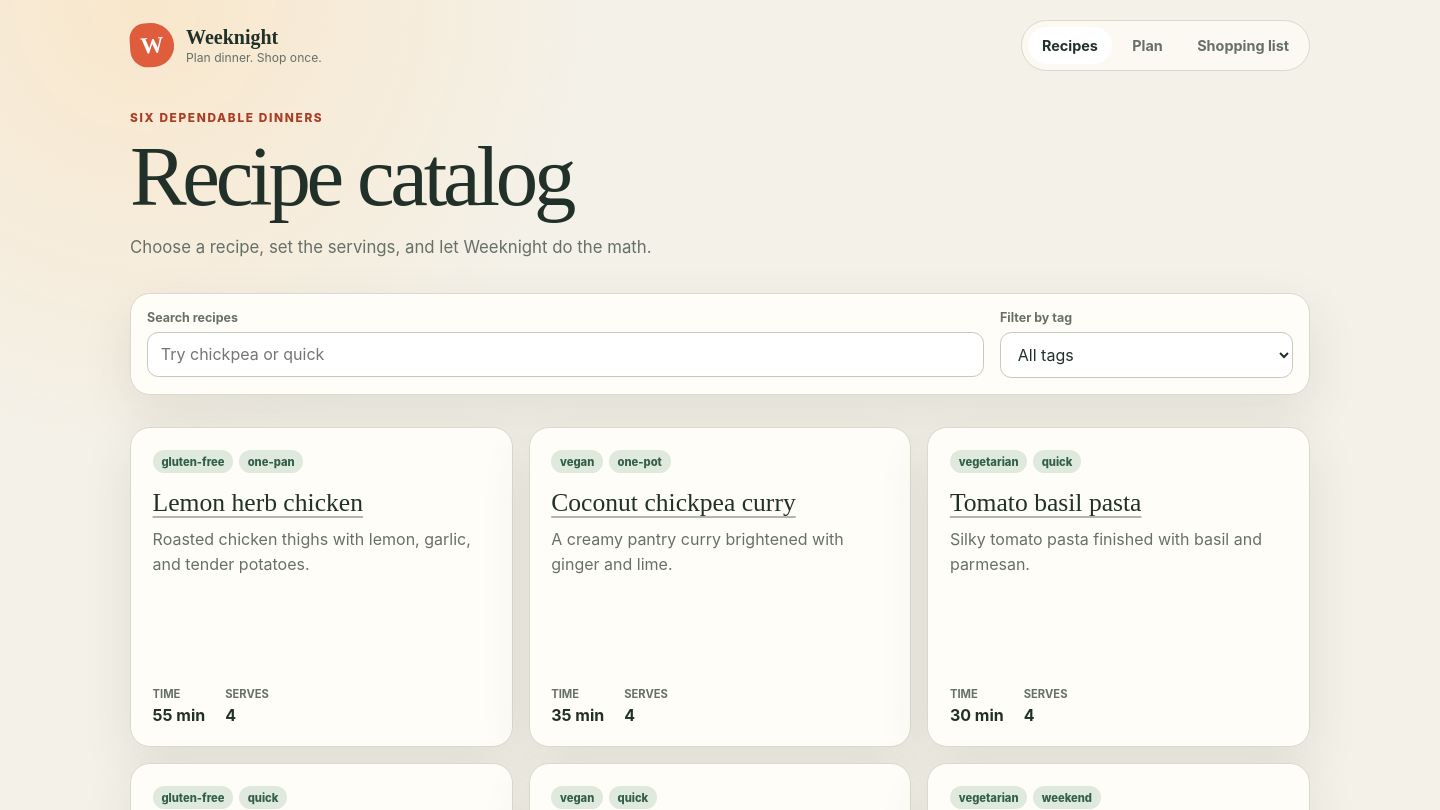
Test: Weeknight › filters the recipe catalog by search text and tag
This screenshot has width=1440, height=810.
Expected: the heading "Recipe catalog" is shown, top-left (130, 129), bottom-right (572, 223)
Expected: the link "Plan" is shown, top-left (1132, 37), bottom-right (1163, 54)
Type "chickpea" into the search field labelled "Search recipes" at (566, 354), box top-left (147, 332), bottom-right (984, 377)
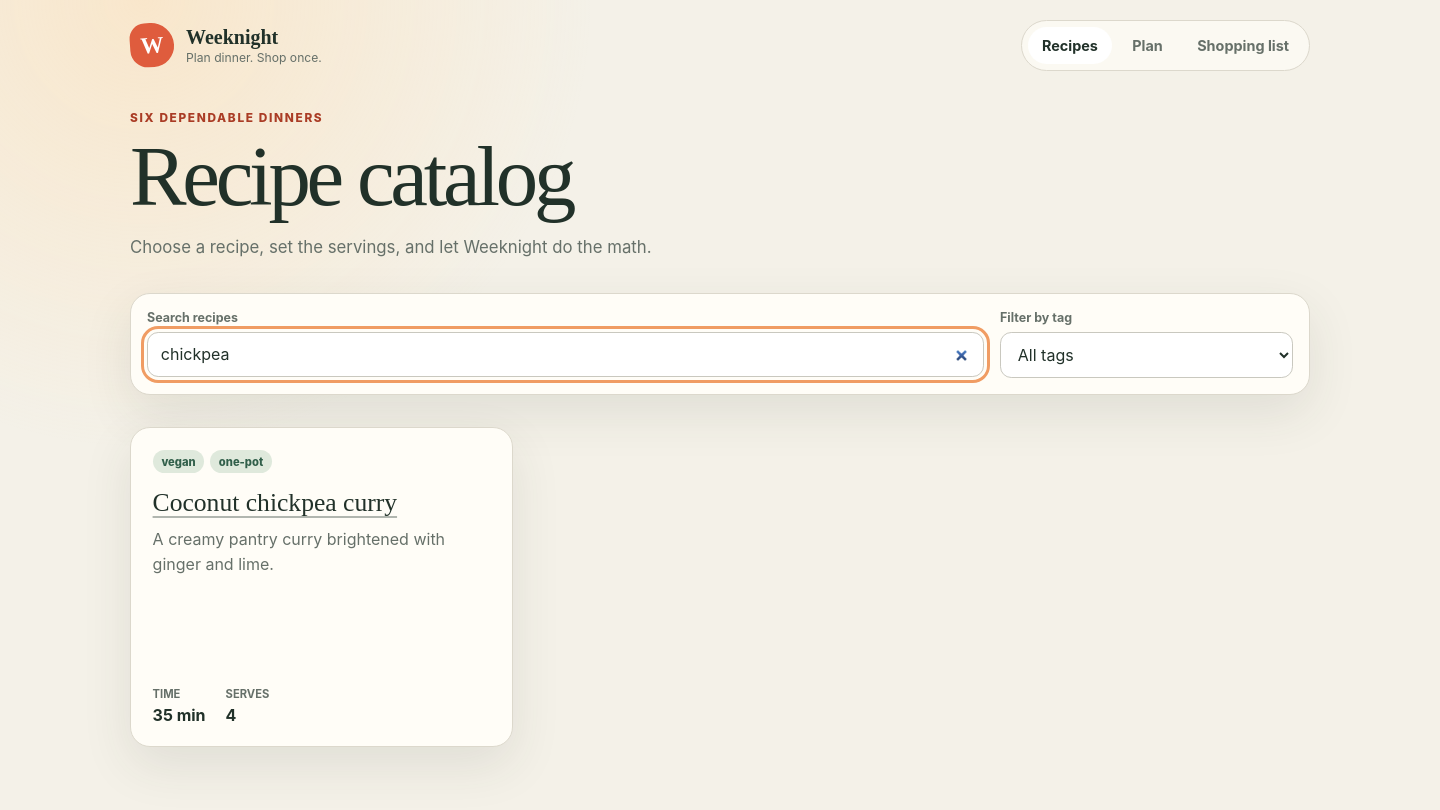
Expected: the link "Coconut chickpea curry" is shown, top-left (153, 488), bottom-right (397, 517)
Now the link "Lemon herb chicken" is gone
Clear the search field labelled "Search recipes" at (566, 354), box top-left (147, 332), bottom-right (984, 377)
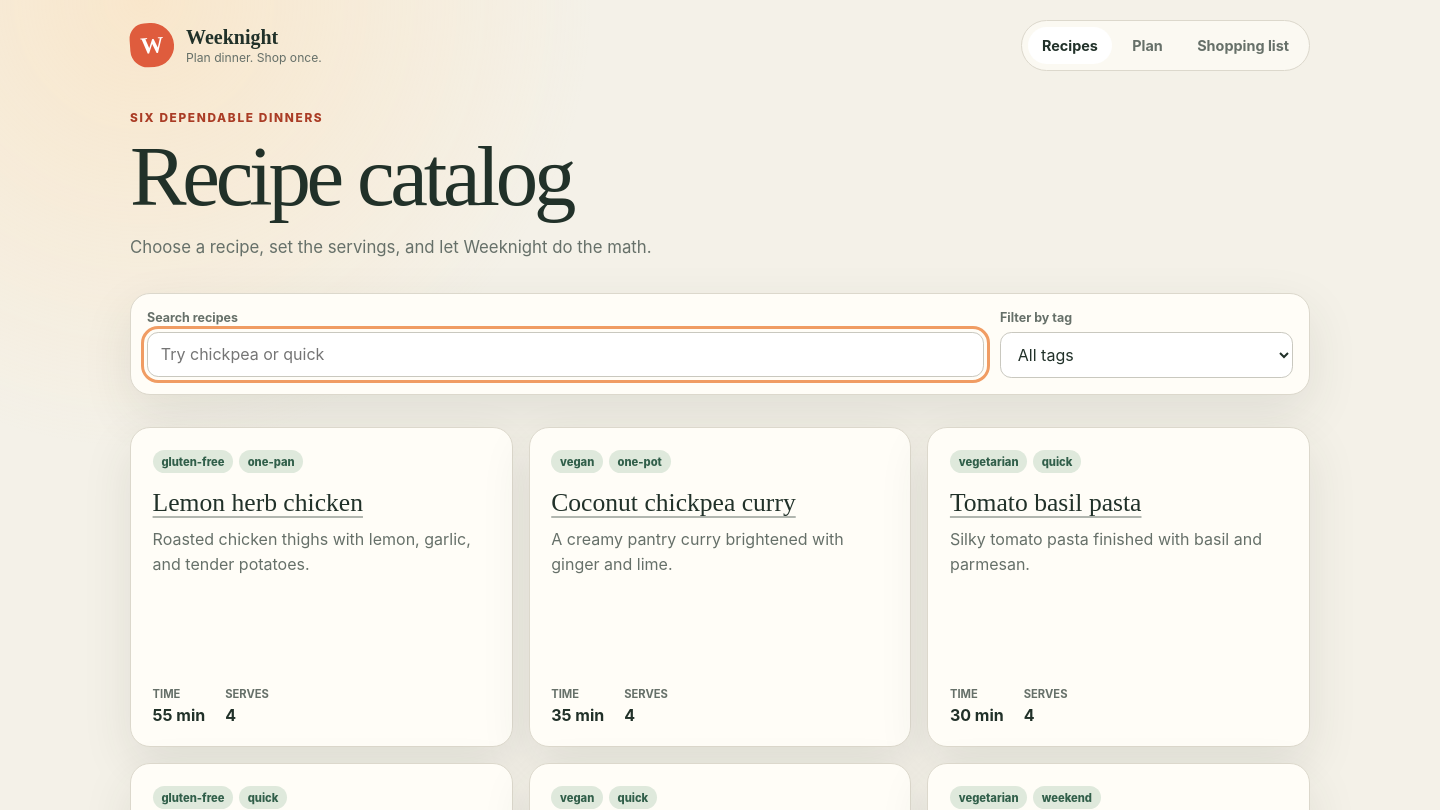
Select "vegan" in the dropdown labelled "Filter by tag" at (1146, 355), box top-left (1000, 332), bottom-right (1293, 378)
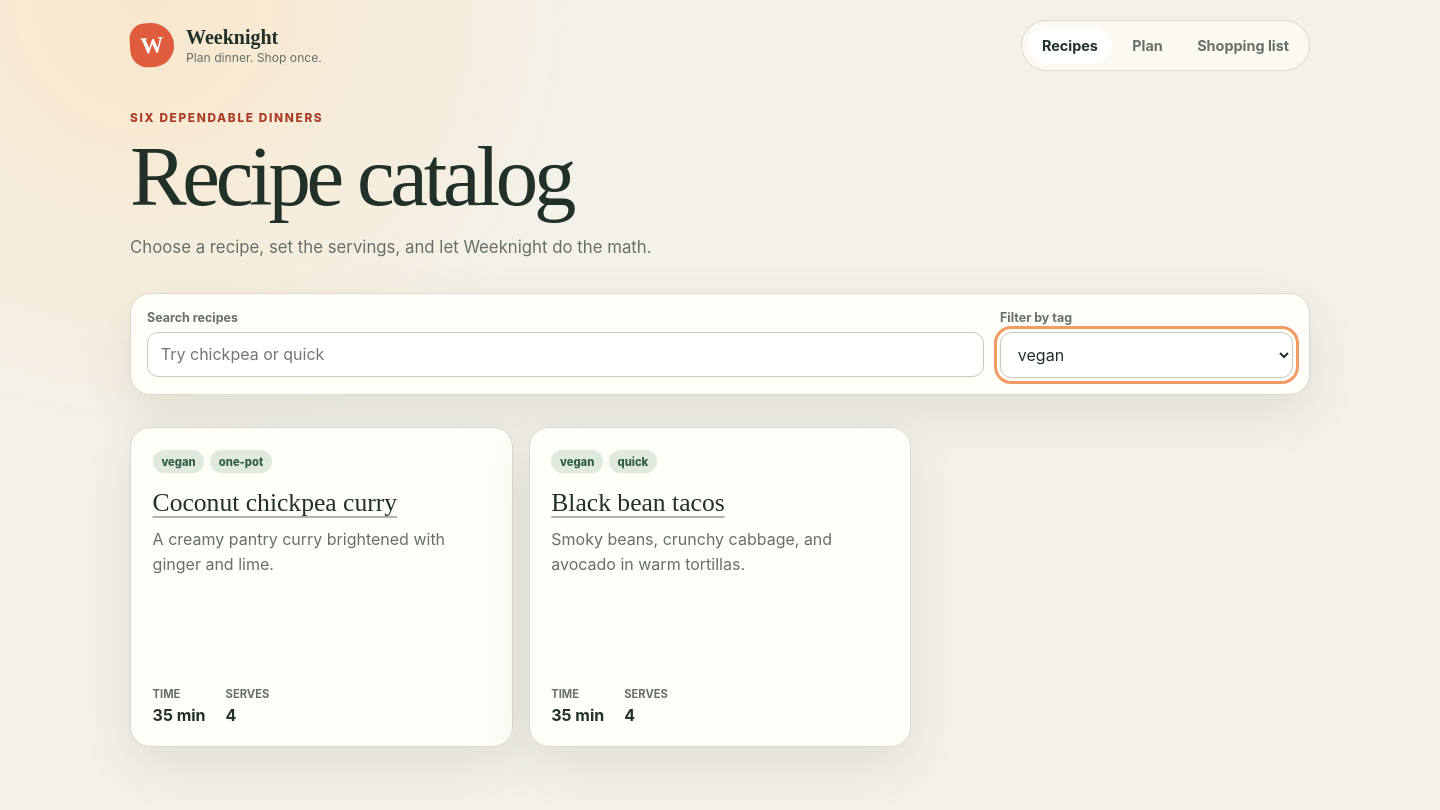
Expected: the link "Coconut chickpea curry" is shown, top-left (153, 488), bottom-right (397, 517)
Now the link "Black bean tacos" is shown, box top-left (551, 488), bottom-right (725, 517)
Now the link "Lemon herb chicken" is gone
